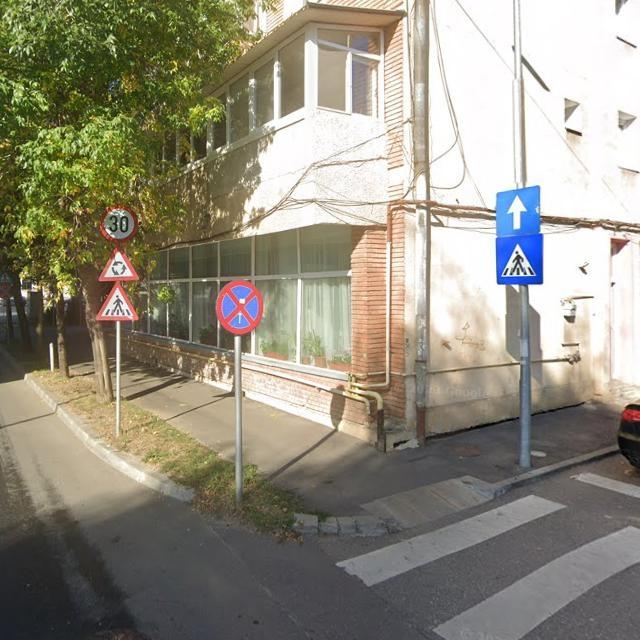forb_speed_over_30: (100, 202, 138, 245)
forb_waiting: (216, 278, 264, 335), (0, 283, 13, 299)
info_crosswalk: (494, 236, 544, 285), (0, 270, 13, 283)
warn_crosswalk: (95, 281, 140, 323)
